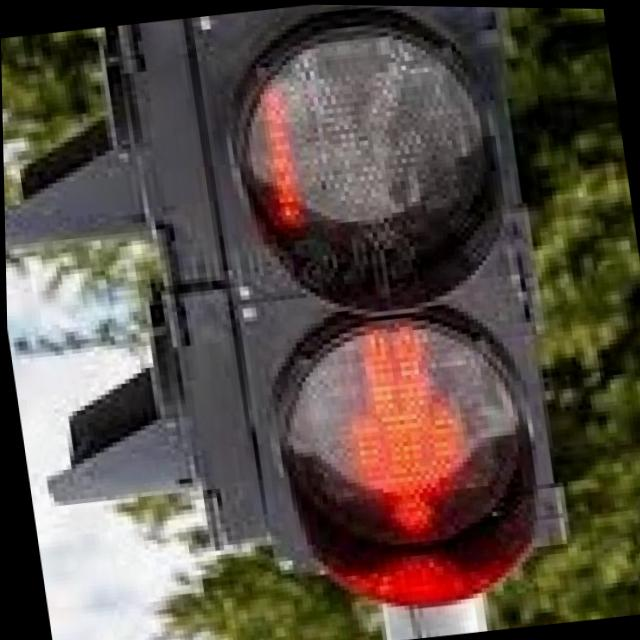red_light: (321, 310, 508, 566)
